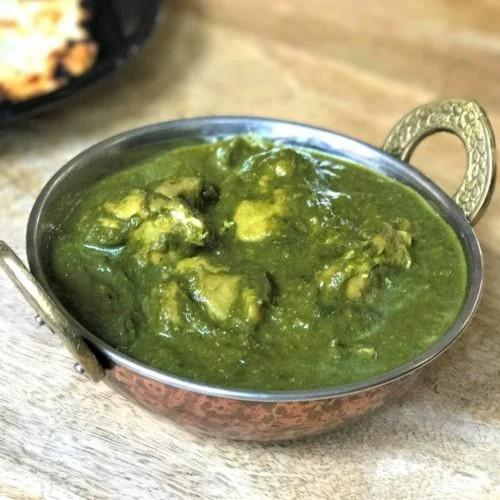PalakPaneer: (49, 130, 466, 396)
